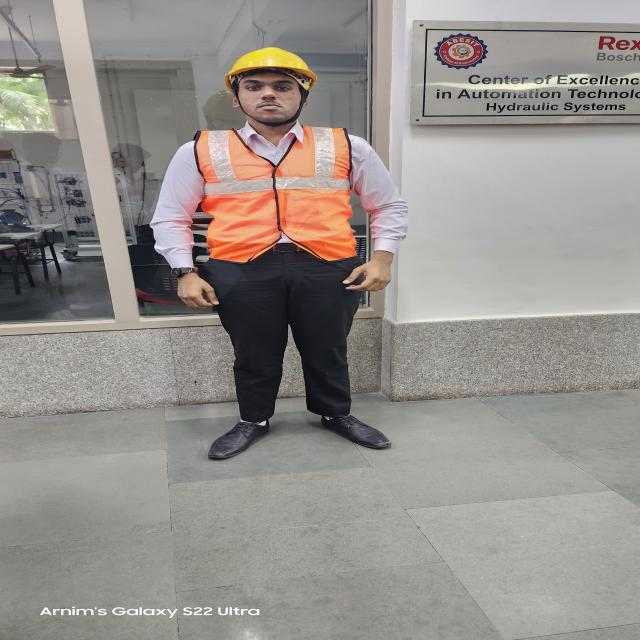safe: (154, 46, 410, 461)
